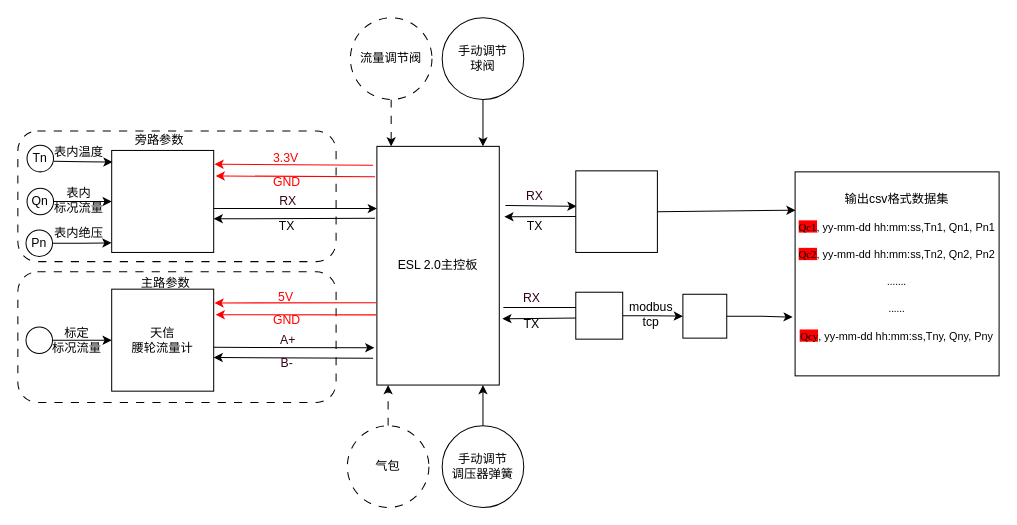
The diagram is 1017 pixels wide and 525 high, and some of its shapes have lost their labels. Here are the shapes that lost their labels. From the top down, the centre of each, then its label:
At (162,200): "积成 超声波基表".
At (616,211): "Terminal 终端".
At (599,315): "Modem".
At (704,315): "FIO TECH".
At (39,339): "Qc".
